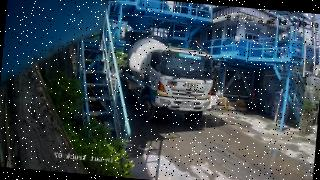cement_mixer_truck: (119, 37, 221, 120)
